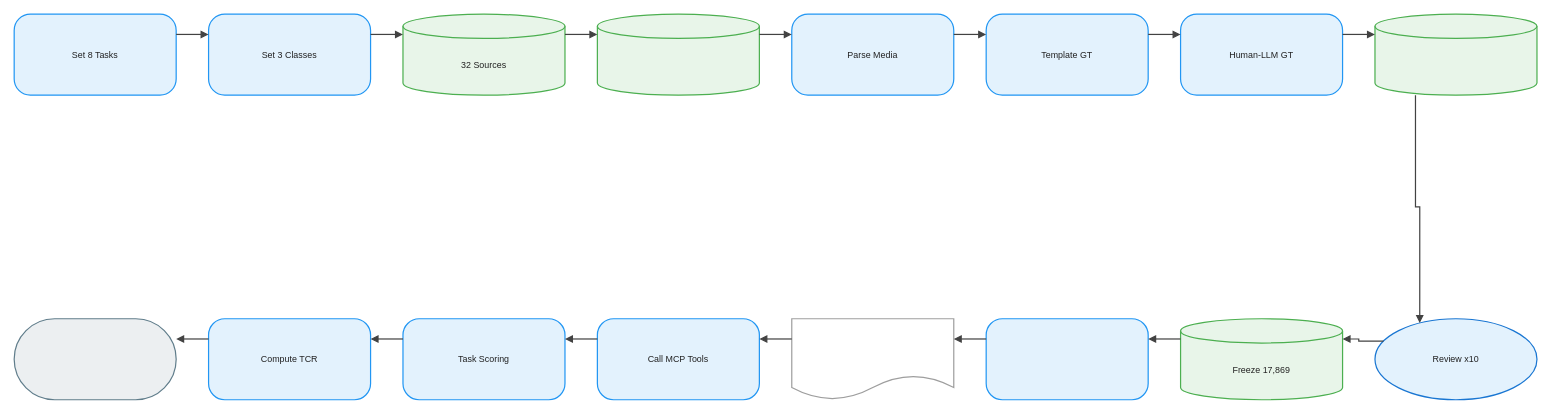
Image size: 1552x415. Some labels were removed from this diagram. The shapes that lost their labels are listed below. From the top down, each one's box as (x1, y1, x2, y2) in pixels, then its label:
(596, 13, 760, 95): Data Store
(1374, 13, 1537, 95): Import MID
(13, 318, 176, 400): Mean 8 Tasks
(791, 318, 954, 400): Give Query
(985, 318, 1148, 400): Build 8 Tools
